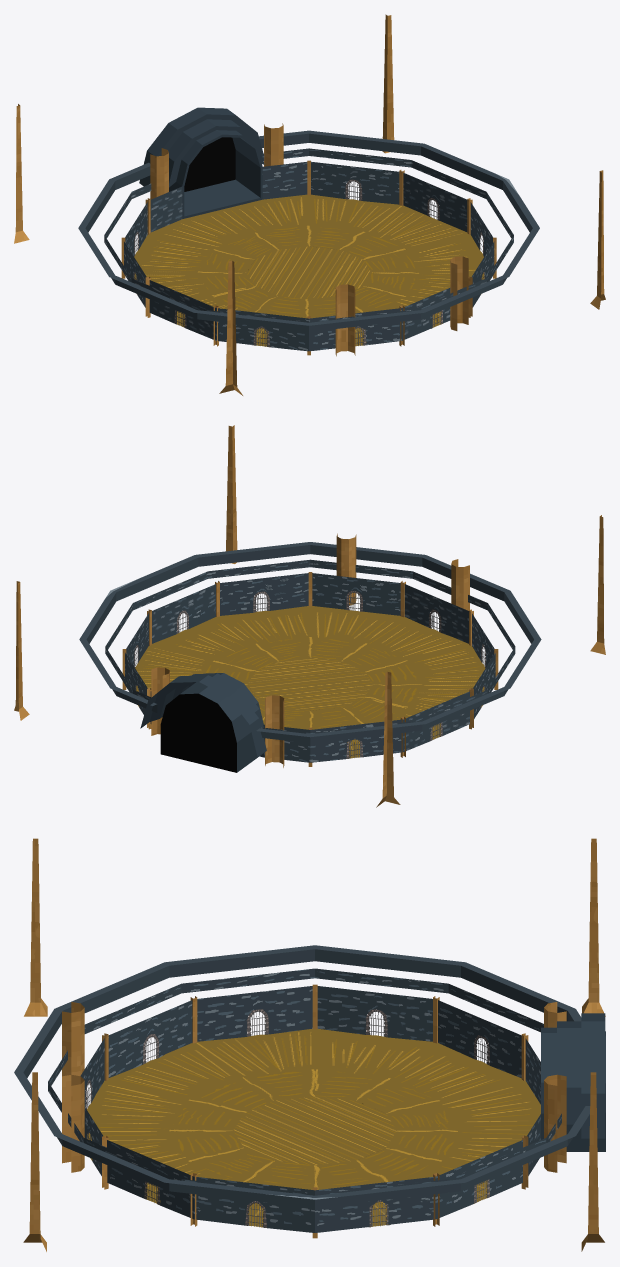
File: arena.glb
3 renders of one model, top to bottom at view 1: azimuth 30°, elevation 25°; view 2: azimuth 150°, elevation 25°; view 3: azimuth 270°, elevation 25°, orthographic. The views are drawn at different scales.
Parts seen in each view (by area): view 1: Cylinder; view 2: Cylinder; view 3: Cylinder.
Part boxes in pixels (bbox=[...]): Cylinder: bbox=[14, 14, 605, 395]; Cylinder: bbox=[14, 425, 605, 807]; Cylinder: bbox=[14, 838, 605, 1251].
Size of the model in its own units: 2.49 by 0.8289 by 2.44.
6 materials, 4 textured.
